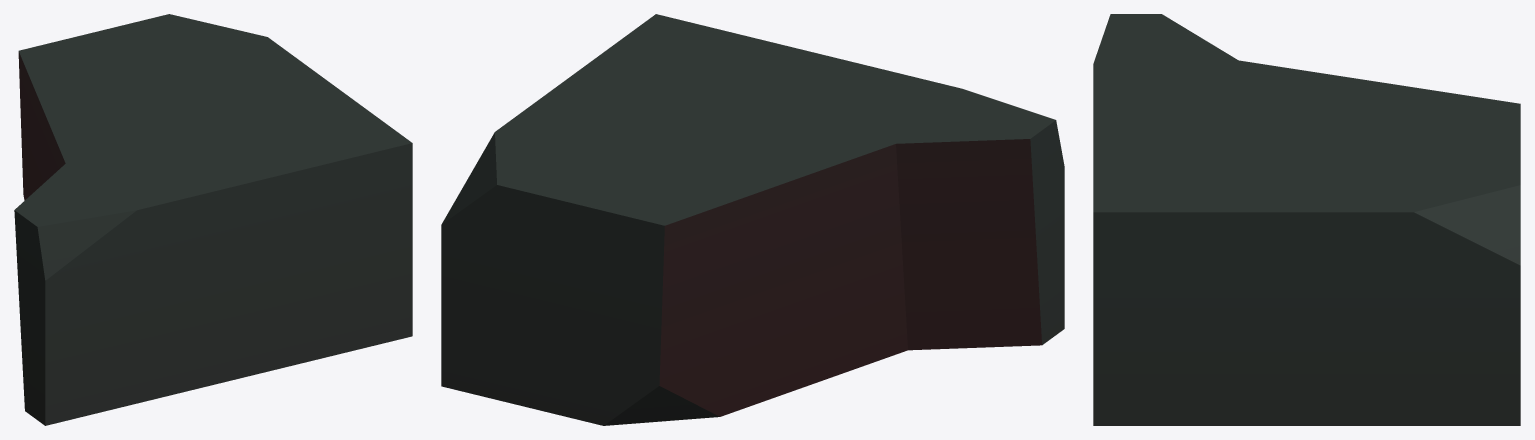
File: SM_BrickRubble_03_Broke.fbx
The picture shows the model from 3 angles, left to right: view 1: azimuth 30°, elevation 25°; view 2: azimuth 150°, elevation 25°; view 3: azimuth 270°, elevation 25°; orthographic projection. The views are drawn at different scales.
Visible parts, largest first — view 1: SM_BrickRubble_03_Broke; view 2: SM_BrickRubble_03_Broke; view 3: SM_BrickRubble_03_Broke.
Boxes of the visible parts, x1,y1,x2,y2 form: SM_BrickRubble_03_Broke: (14, 14, 412, 425); SM_BrickRubble_03_Broke: (441, 14, 1064, 425); SM_BrickRubble_03_Broke: (1093, 14, 1520, 425).
Size of the model in its own units: 67.93 by 34.16 by 61.85.
1 material, 1 textured.
